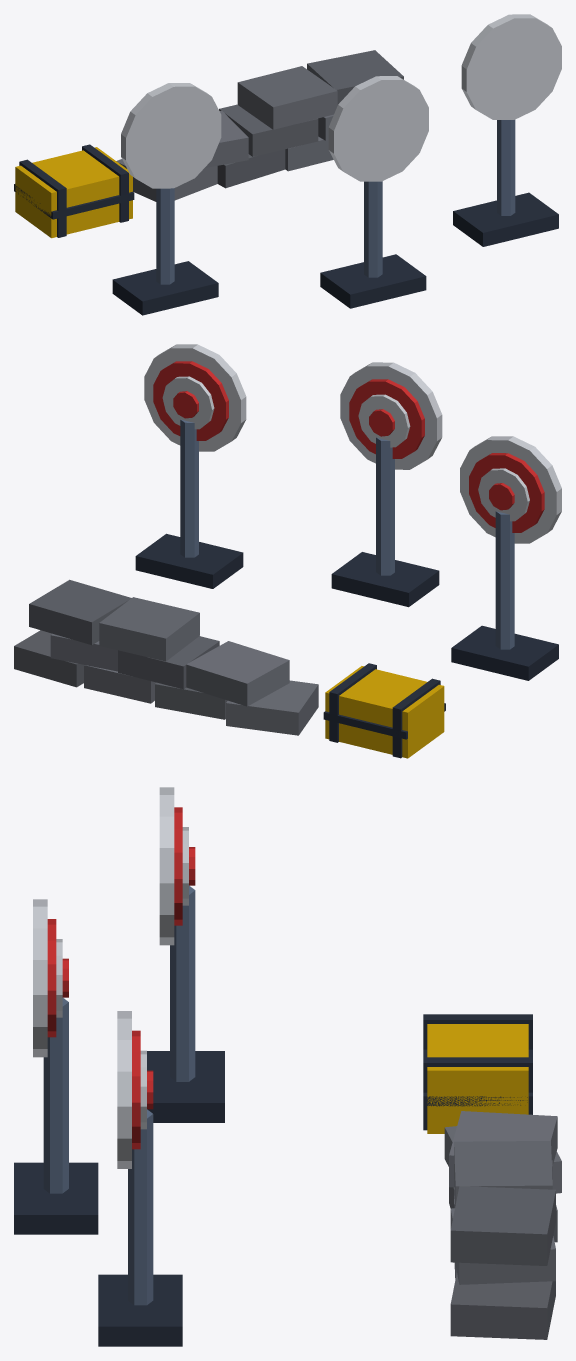
File: Decor_MechaHangar_Range.fbx
3 views of the same model, one above another, from view 1: azimuth 30°, elevation 25°; view 2: azimuth 150°, elevation 25°; view 3: azimuth 270°, elevation 25° (orthographic). The views are drawn at different scales.
Parts seen in each view (by area): view 1: Range_Body; view 2: Range_Body; view 3: Range_Body.
Part boxes in pixels (x1=…): Range_Body: x1=14, y1=14, x2=561, y2=315; Range_Body: x1=14, y1=344, x2=561, y2=758; Range_Body: x1=14, y1=787, x2=561, y2=1346.
Size of the model in its own units: 15.6 by 7.6 by 12.5.
